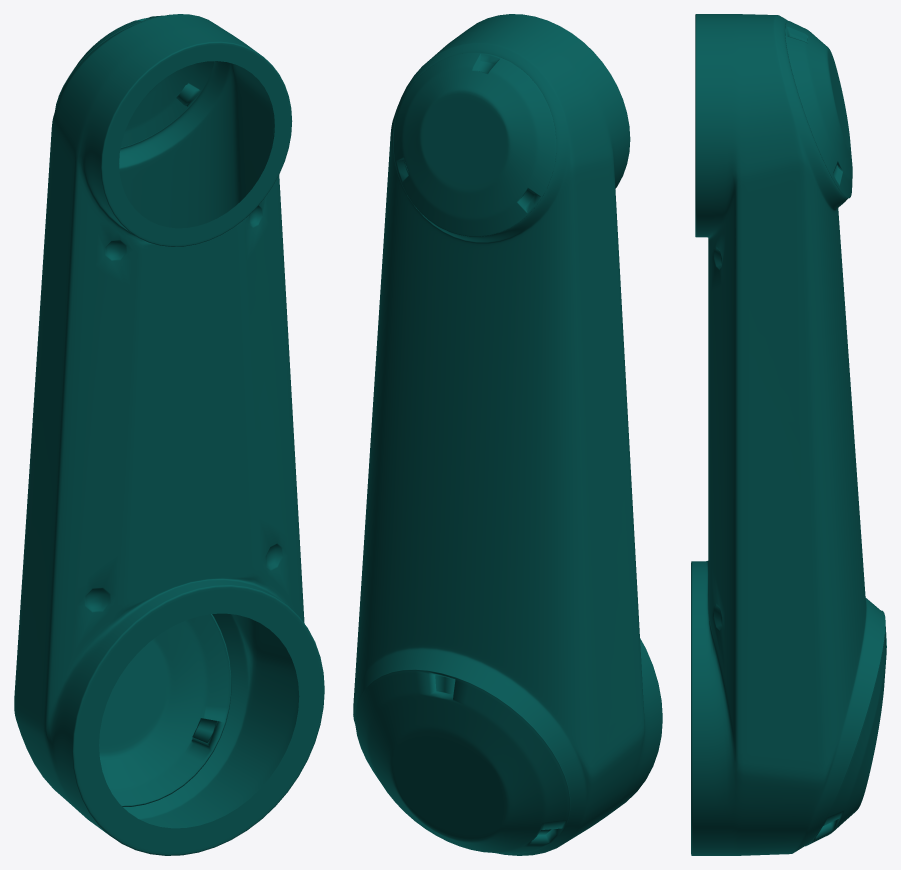
Rendered from arm2.glb.
3 views of the same model, side by side, from view 1: azimuth 30°, elevation 25°; view 2: azimuth 150°, elevation 25°; view 3: azimuth 270°, elevation 25° (orthographic).
Parts seen in each view (by area): view 1: Object_36; view 2: Object_36; view 3: Object_36.
Part boxes in pixels (x1,y1,x2,y2): Object_36: (14, 14, 324, 855); Object_36: (353, 14, 662, 855); Object_36: (691, 14, 886, 855).
Bounding box in the file's own units: 0.3818 × 1.13 × 0.2448.
